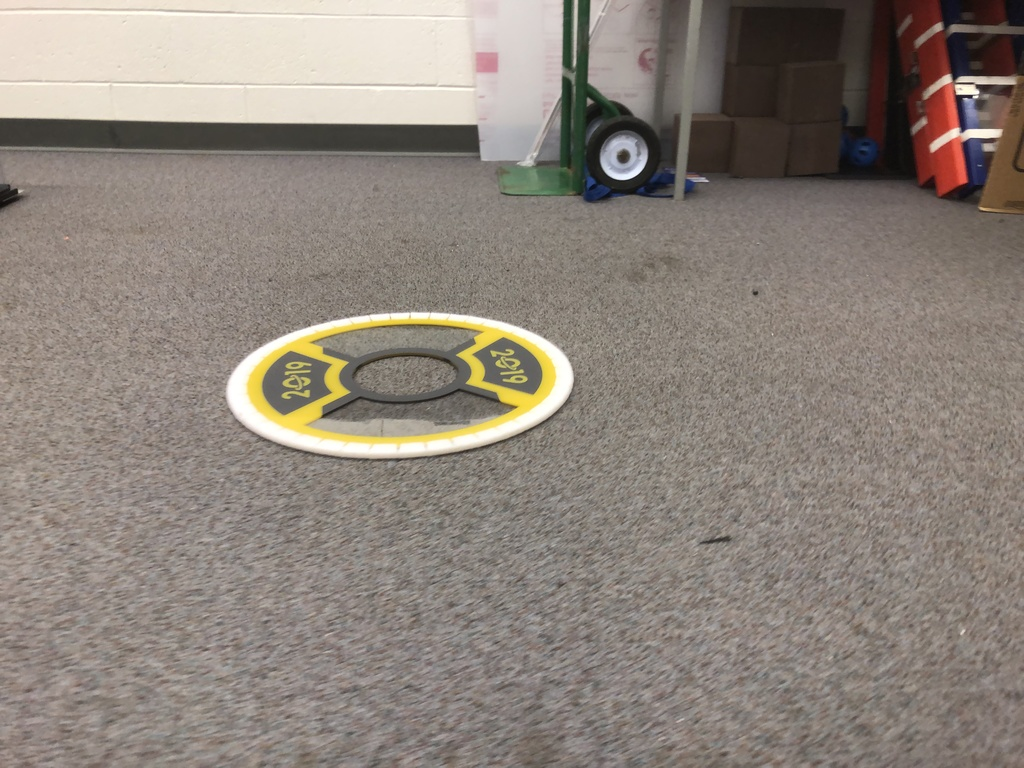hatch_panel: (222, 301, 581, 462)
